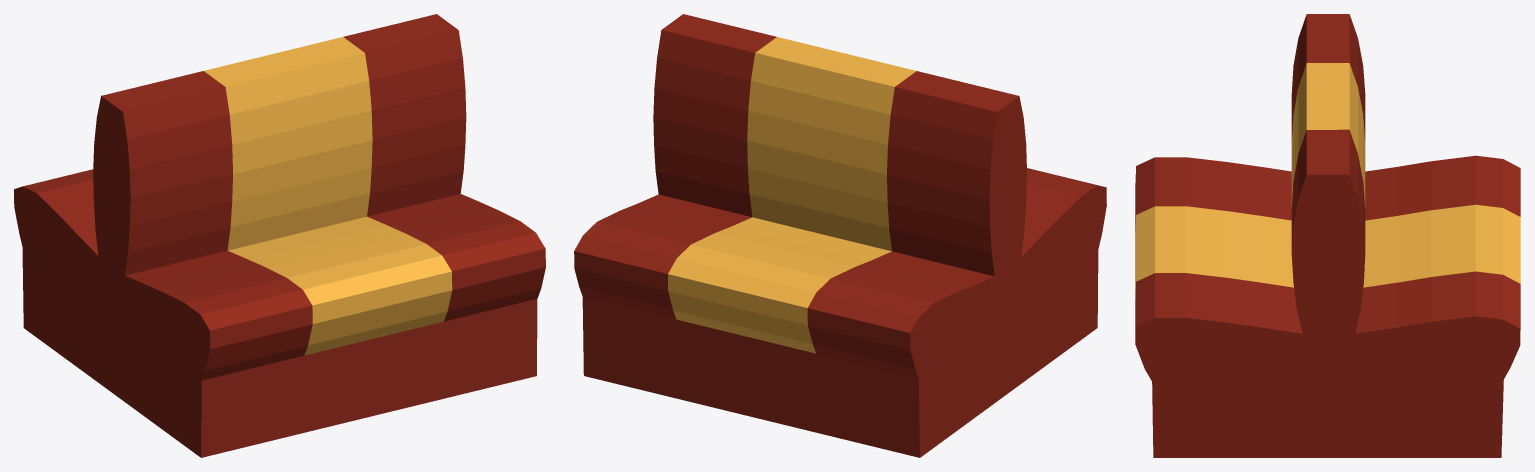
The model's file is sofa_1.fbx.
3 views of the same model, side by side, from view 1: azimuth 30°, elevation 25°; view 2: azimuth 150°, elevation 25°; view 3: azimuth 270°, elevation 25° (orthographic). The views are drawn at different scales.
Visible parts, largest first — view 1: sofa_1; view 2: sofa_1; view 3: sofa_1.
Part boxes in pixels (<box>): sofa_1: <box>14,14,545,457</box>; sofa_1: <box>574,14,1106,457</box>; sofa_1: <box>1135,14,1520,457</box>.
Bounding box in the file's own units: 2.91 × 2.39 × 2.95.
